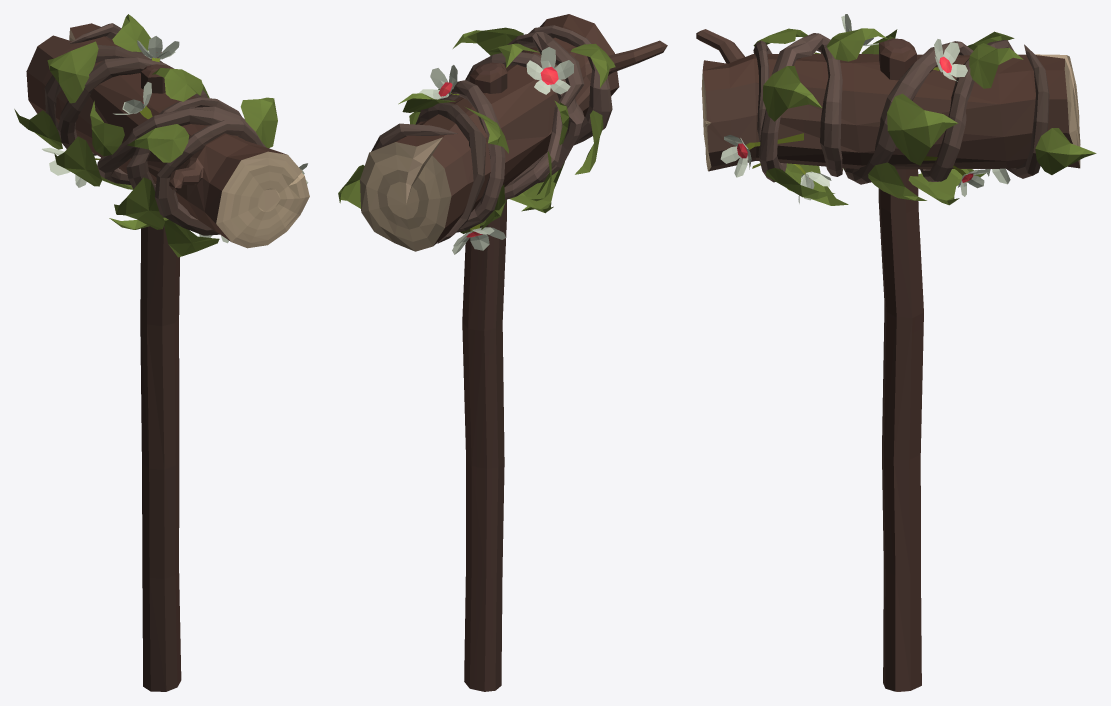
The model's file is bluntHeavyWoodenFlowerHammer.glb.
3 renders of one model, left to right at view 1: azimuth 30°, elevation 25°; view 2: azimuth 150°, elevation 25°; view 3: azimuth 270°, elevation 25°, orthographic. The views are drawn at different scales.
Visible parts, largest first — view 1: bluntHeavyWoodenFlowerHammer; view 2: bluntHeavyWoodenFlowerHammer; view 3: bluntHeavyWoodenFlowerHammer.
Boxes of the visible parts, <box> form: bluntHeavyWoodenFlowerHammer: <box>14,14,309,691</box>; bluntHeavyWoodenFlowerHammer: <box>338,14,667,691</box>; bluntHeavyWoodenFlowerHammer: <box>696,14,1096,691</box>.
Bounding box in the file's own units: 0.2902 × 1.11 × 0.6113.
